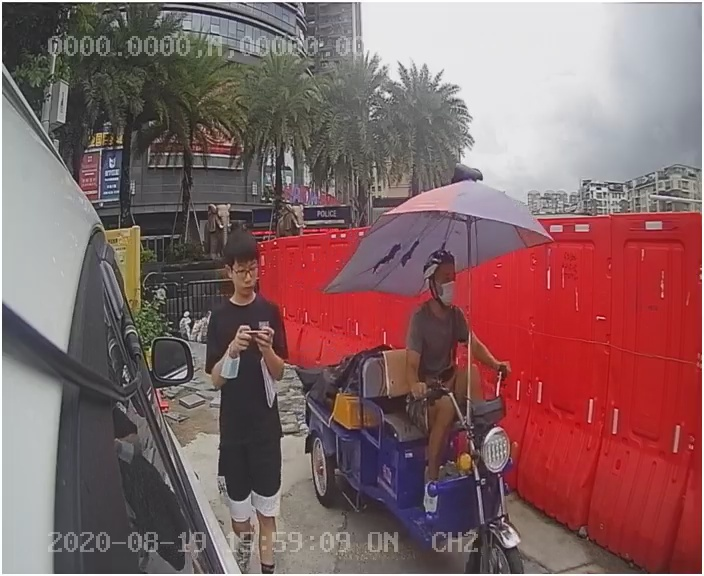person: (202, 231, 304, 531)
